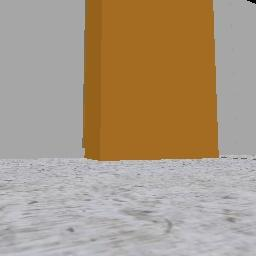tonomat: (84, 0, 218, 160)
